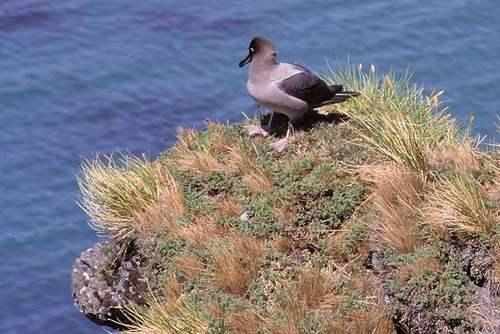003.Sooty_Albatross: (235, 33, 361, 152)
